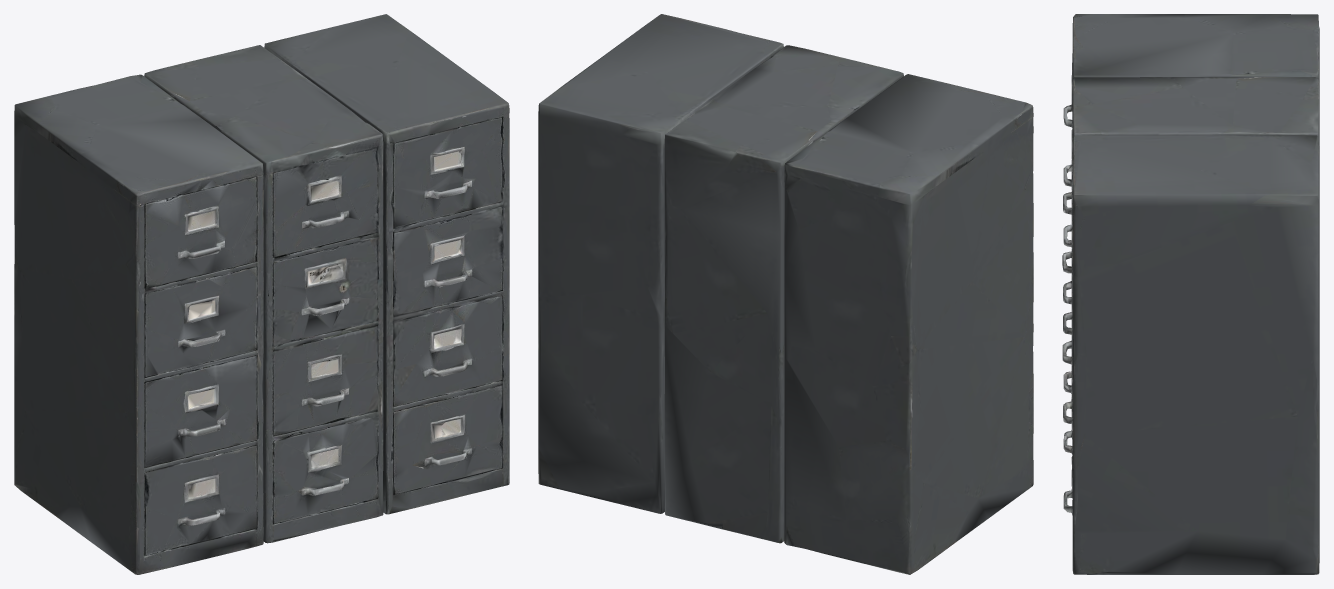
Rendered from cabinets.glb.
The picture shows the model from 3 angles, left to right: view 1: azimuth 30°, elevation 25°; view 2: azimuth 150°, elevation 25°; view 3: azimuth 270°, elevation 25°; orthographic projection.
Size of the model in its own units: 1.9 by 1.86 by 1.14.
Materials: 1 (1 with a texture image).
